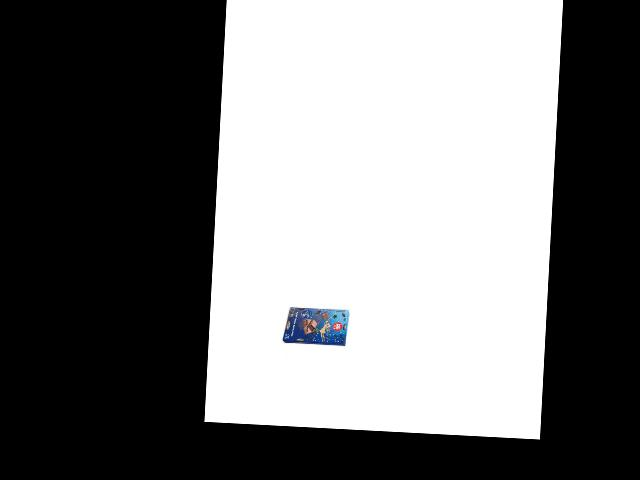chocolate: (282, 301, 350, 350)
